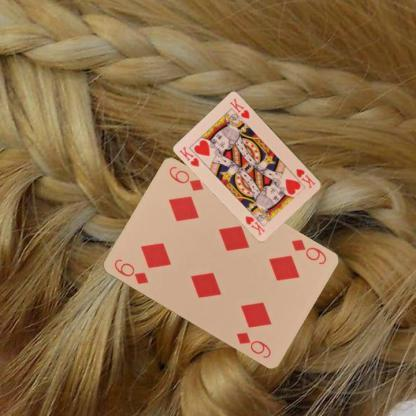6d: (288, 236, 328, 266), (111, 256, 150, 285)
Kh: (176, 144, 200, 168), (294, 166, 316, 190)
